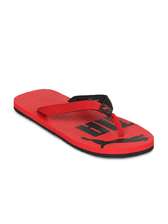shoes: (8, 81, 160, 160)
